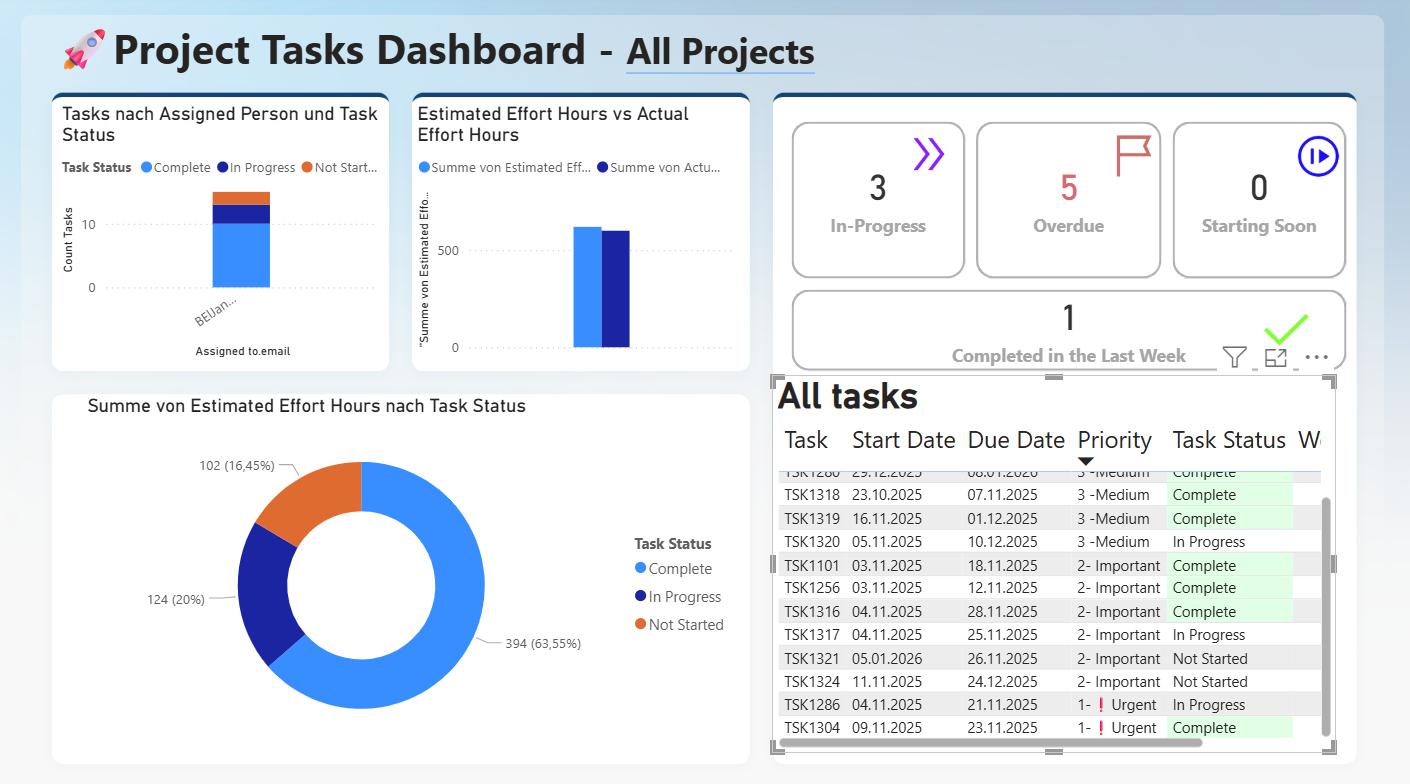

The dashboard page shown, as its layout file describes it:
{"tool":"powerbi","page":{"name":"Management Dashboard","canvas":[1280,720],"ordinal":0},"visuals":[{"type":"advanceCardE03760C5AB684758B56AA29F9E6C257B","fields":{"mainMeasure":["Tasks.Count Recently Completed Tasks"]},"box":[714.7,260.4,510.3,83.3],"z":0},{"type":"advanceCardE03760C5AB684758B56AA29F9E6C257B","fields":{"mainMeasure":["Tasks.Count Starting Soon Tasks"]},"box":[1058.4,109,166.6,151.4],"z":1000},{"type":"tableEx","title":"All tasks","fields":{"Values":["Tasks.Task","Tasks.Start Date","Tasks.Due Date","Tasks.Priority","Tasks.Task Status","Tasks.WoS Variance %"]},"box":[702.6,343.7,508.8,340.7],"z":2000},{"type":"columnChart","title":"Tasks nach Assigned Person und Task Status","fields":{"Series":["Tasks.Task Status"],"Y":["Tasks.Count Tasks"],"Category":["Assignees.Assigned to.email"]},"box":[57.5,96.9,295.3,234.7],"z":3000},{"type":"donutChart","fields":{"Y":["Tasks.Estimated Effort Hours"],"Category":["Tasks.Task Status"]},"box":[81.8,360.4,593.6,324],"z":4000},{"type":"clusteredColumnChart","title":" Estimated Effort Hours vs Actual Effort Hours","fields":{"Y":["Tasks.Estimated Effort Hours","Tasks.Actual Effort Hours"]},"box":[378.6,96.9,296.8,234.7],"z":5000},{"type":"textbox","box":[53.2,17.7,1192.6,63],"z":6000},{"type":"advanceCardE03760C5AB684758B56AA29F9E6C257B","fields":{"mainMeasure":["Tasks.Count Overdue Tasks"]},"box":[881.3,109,177.2,151.4],"z":7000},{"type":"advanceCardE03760C5AB684758B56AA29F9E6C257B","fields":{"mainMeasure":["Tasks.Count In-Progress Tasks"]},"box":[714.7,109,166.6,151.4],"z":8000},{"type":"image","box":[817.7,116.6,50,56],"z":9000},{"type":"image","box":[1137.2,240.8,59.1,124.2],"z":10000},{"type":"image","box":[984.2,121.1,86.3,46.9],"z":11000},{"type":"image","box":[1173.5,113.6,43.9,65.1],"z":12000}]}

Visuals, with their boxes in screenshot pixels (x1, y1, x2, y2), scaled from the page's 1280x720 canvas onto the 1410x784 screenshot:
advanceCardE03760C5AB684758B56AA29F9E6C257B - Tasks.Count Recently Completed Tasks: <box>787,284,1349,374</box>
advanceCardE03760C5AB684758B56AA29F9E6C257B - Tasks.Count Starting Soon Tasks: <box>1166,119,1349,284</box>
"All tasks" tableEx: <box>774,374,1334,745</box>
"Tasks nach Assigned Person und Task Status" columnChart: <box>63,106,389,361</box>
donutChart - Tasks.Estimated Effort Hours x Tasks.Task Status: <box>90,392,744,745</box>
" Estimated Effort Hours vs Actual Effort Hours" clusteredColumnChart: <box>417,106,744,361</box>
textbox: <box>59,19,1372,88</box>
advanceCardE03760C5AB684758B56AA29F9E6C257B - Tasks.Count Overdue Tasks: <box>971,119,1166,284</box>
advanceCardE03760C5AB684758B56AA29F9E6C257B - Tasks.Count In-Progress Tasks: <box>787,119,971,284</box>
image: <box>901,127,956,188</box>
image: <box>1253,262,1318,397</box>
image: <box>1084,132,1179,183</box>
image: <box>1293,124,1341,195</box>
